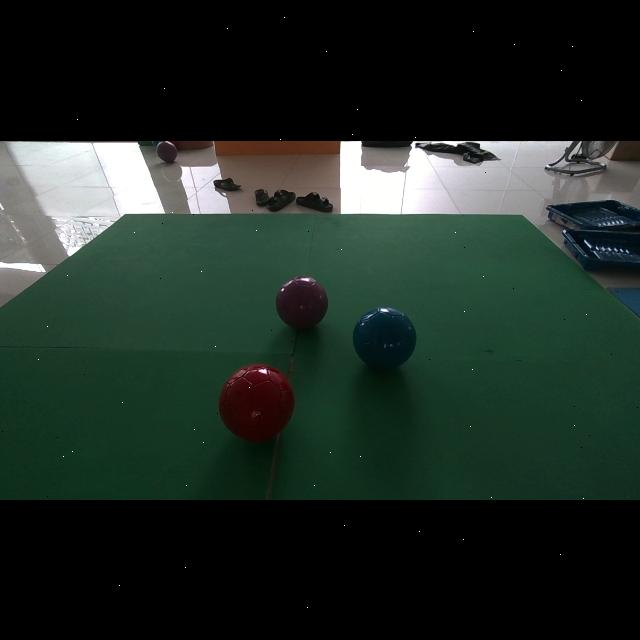B: (352, 306, 416, 369)
P: (275, 275, 328, 328)
R: (218, 364, 294, 441)
